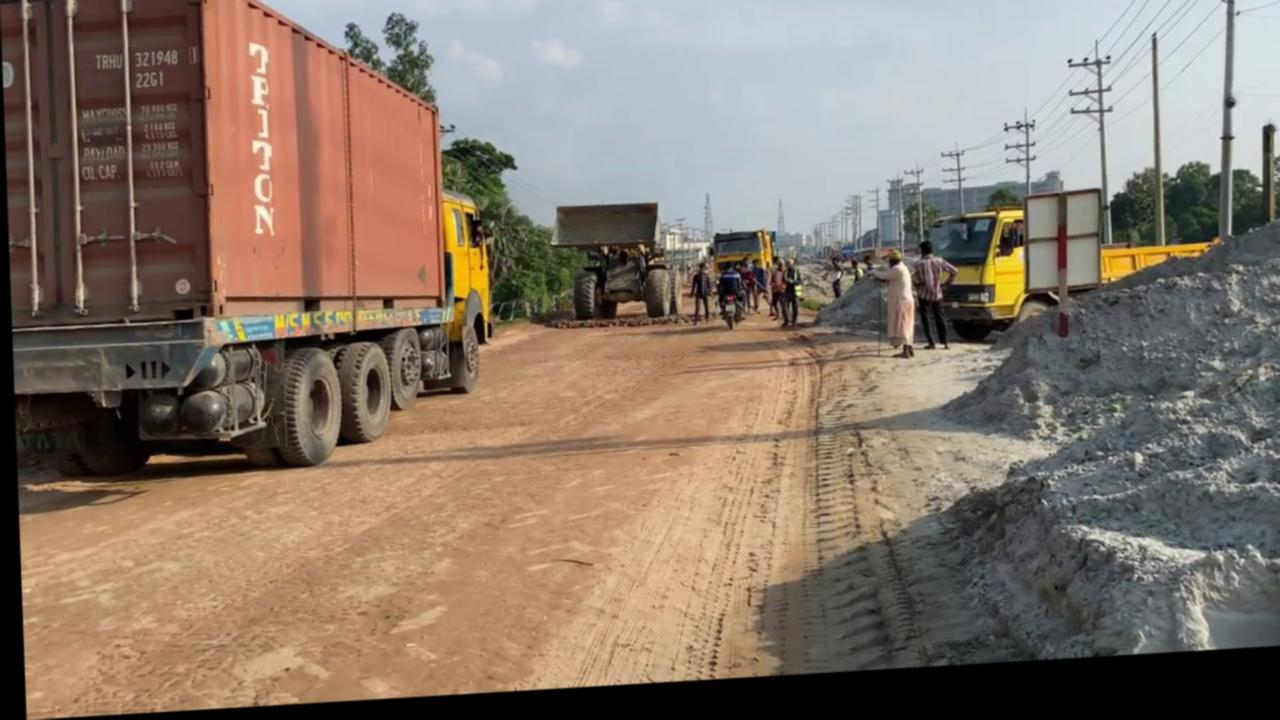Muddy road: (10, 265, 1055, 718)
Pole: (1146, 45, 1163, 260)
Tree: (1, 0, 498, 484), (921, 197, 1223, 354), (546, 206, 673, 331), (707, 236, 775, 291)
